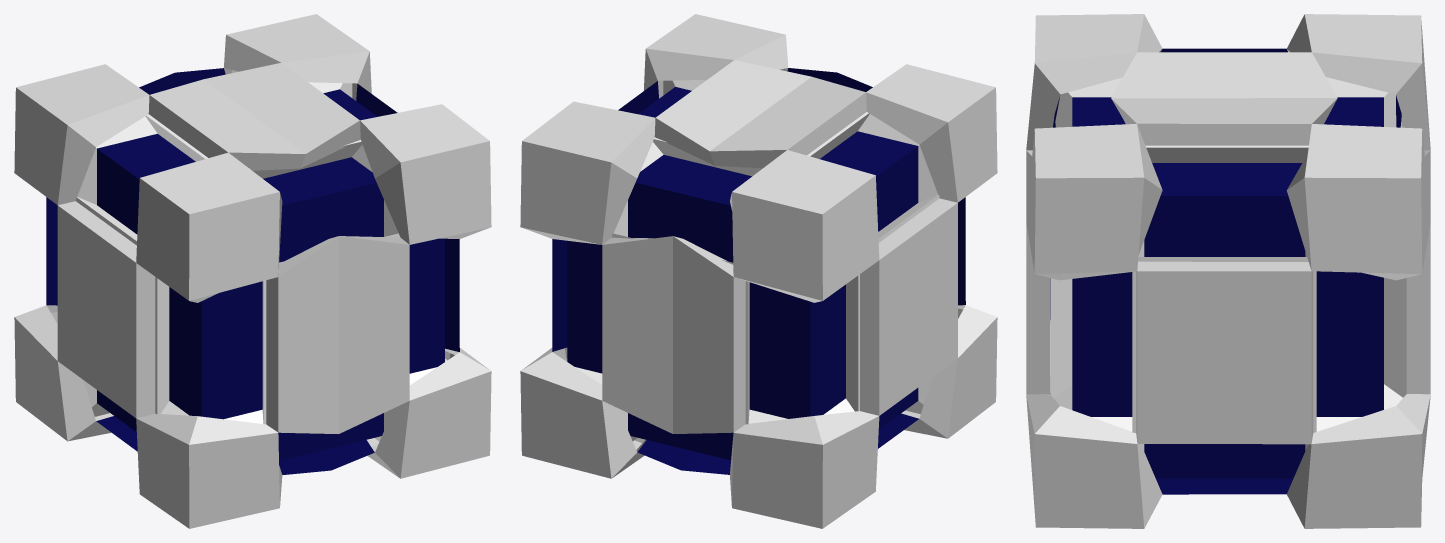
File: Block.fbx
3 views of the same model, side by side, from view 1: azimuth 30°, elevation 25°; view 2: azimuth 150°, elevation 25°; view 3: azimuth 270°, elevation 25° (orthographic). The views are drawn at different scales.
Parts seen in each view (by area): view 1: Cube; view 2: Cube; view 3: Cube.
Part boxes in pixels (x1=…): Cube: x1=14, y1=14, x2=491, y2=528; Cube: x1=520, y1=14, x2=997, y2=528; Cube: x1=1026, y1=14, x2=1430, y2=528.
Bounding box in the file's own units: 454 × 454 × 454.
